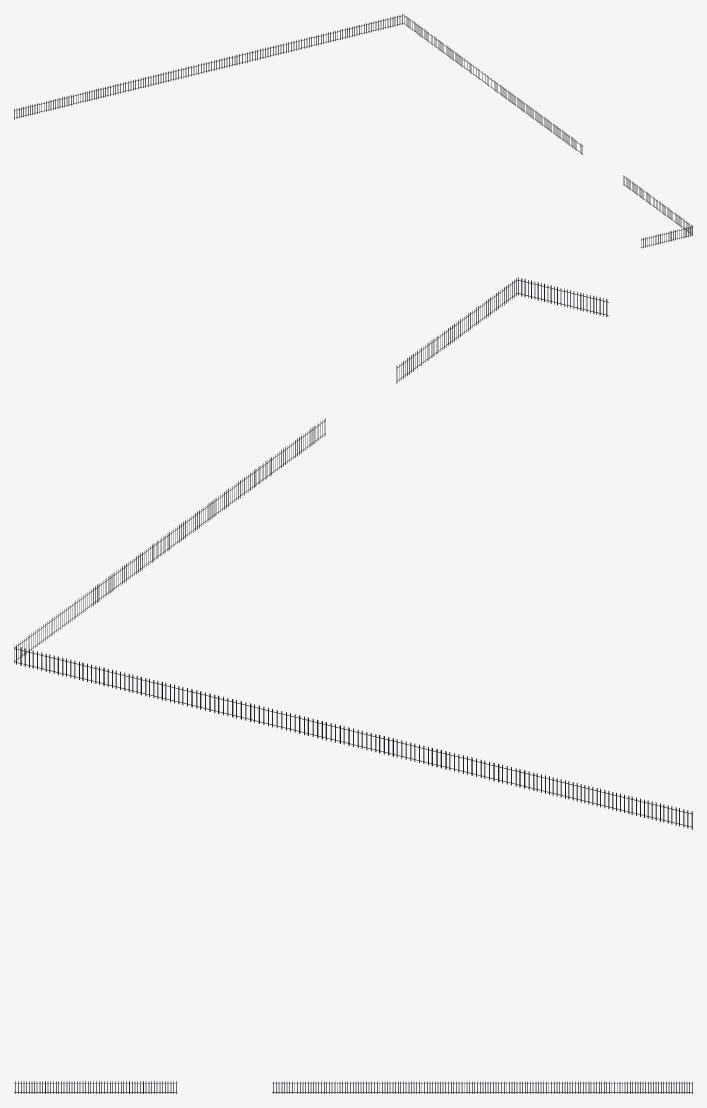
The model's file is vgnpolicecpark3.obj.
3 renders of one model, top to bottom at view 1: azimuth 30°, elevation 25°; view 2: azimuth 150°, elevation 25°; view 3: azimuth 270°, elevation 25°, orthographic. The views are drawn at different scales.
Parts seen in each view (by area): view 1: vgnpolicecpark3; view 2: vgnpolicecpark3; view 3: vgnpolicecpark3.
Part boxes in pixels (left/top/right/bottom): vgnpolicecpark3: left=14, top=14, right=692, bottom=248; vgnpolicecpark3: left=14, top=277, right=692, bottom=829; vgnpolicecpark3: left=14, top=1081, right=692, bottom=1093.
Bounding box in the file's own units: 55.93 × 1.44 × 71.83.
1 material, 1 textured.
